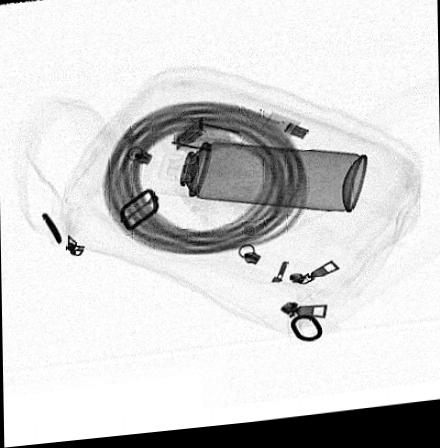Sprayer: (143, 145, 367, 221)
